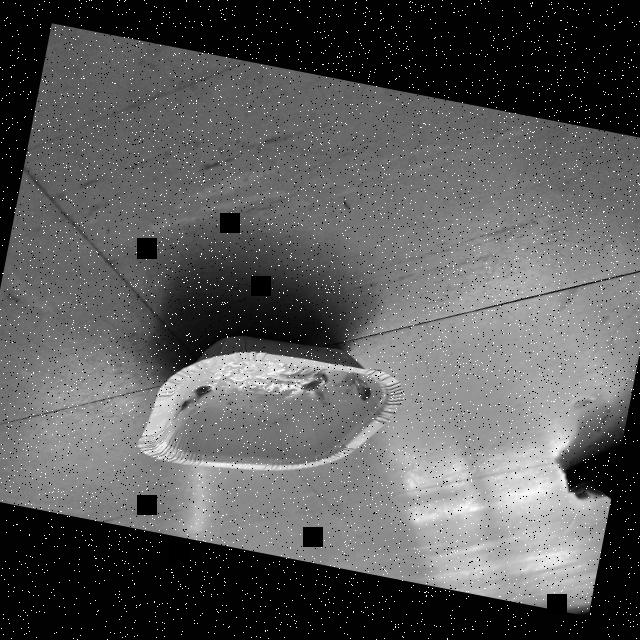cardboard_bowl: (126, 299, 418, 520)
